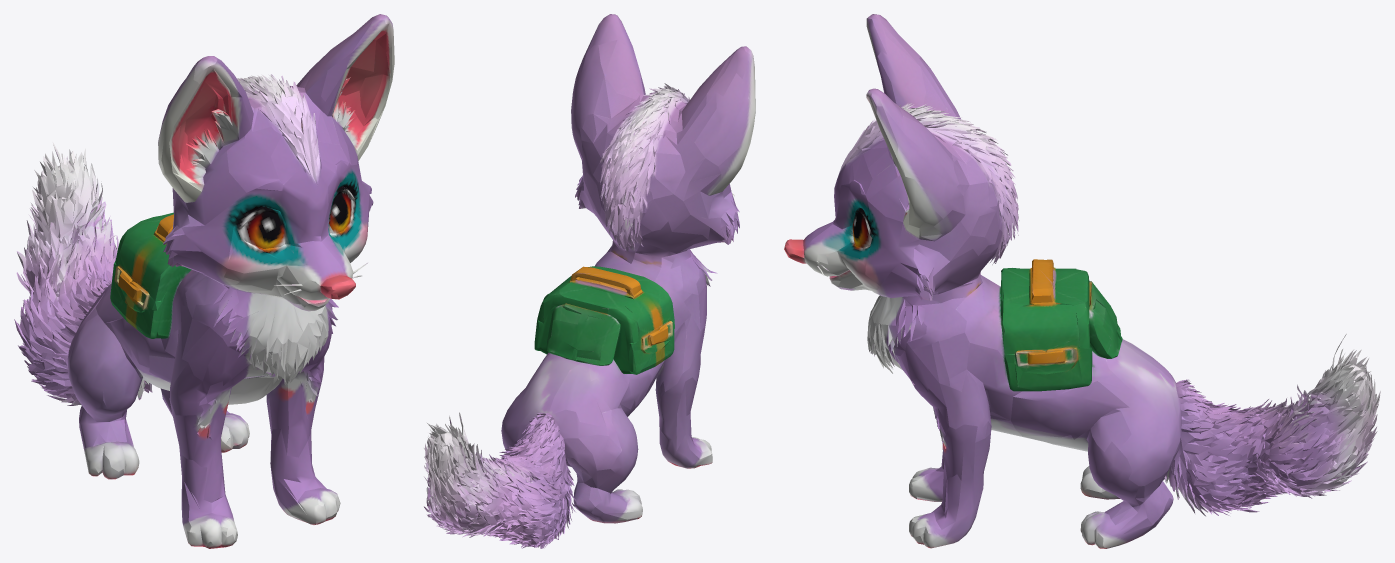
File: wren-the-wandering-pup-v1.glb
The picture shows the model from 3 angles, left to right: view 1: azimuth 30°, elevation 25°; view 2: azimuth 150°, elevation 25°; view 3: azimuth 270°, elevation 25°; orthographic projection. The views are drawn at different scales.
Size of the model in its own units: 0.7564 by 1.64 by 1.9.
1 material, 1 textured.
